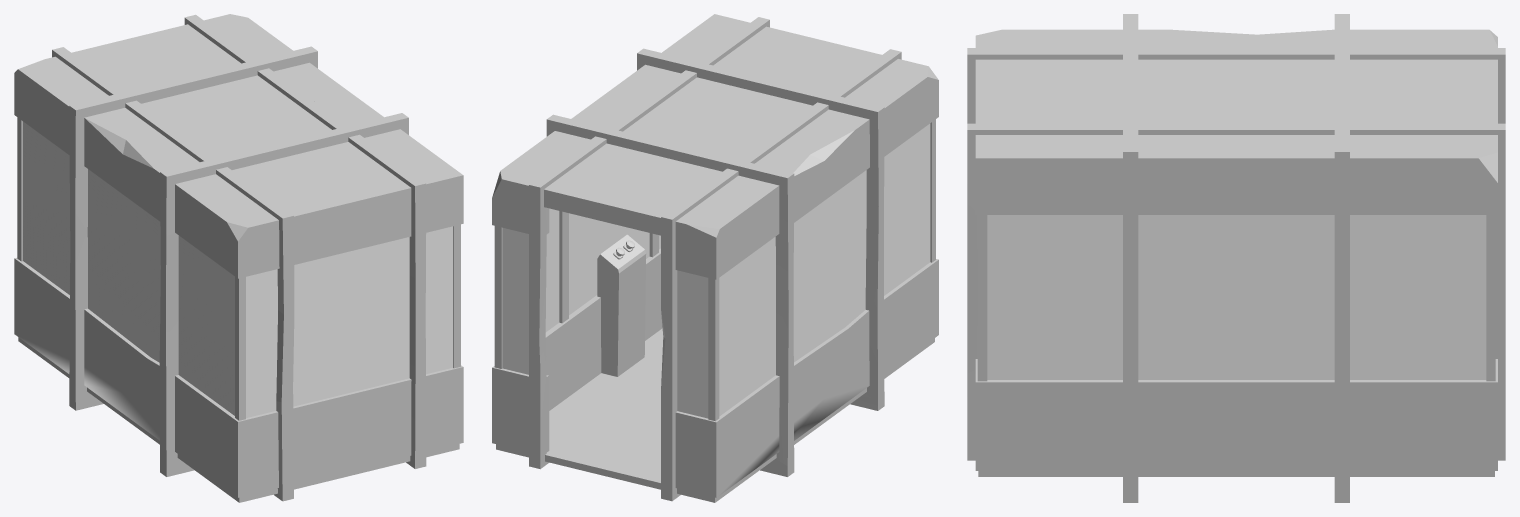
Rendered from SM_Prop_Elevator_01.glb.
The picture shows the model from 3 angles, left to right: view 1: azimuth 30°, elevation 25°; view 2: azimuth 150°, elevation 25°; view 3: azimuth 270°, elevation 25°; orthographic projection. The views are drawn at different scales.
Parts seen in each view (by area): view 1: SM_Prop_Elevator_01, SM_Prop_Elevator_01_Mesh; view 2: SM_Prop_Elevator_01, SM_Prop_Elevator_01_Mesh; view 3: SM_Prop_Elevator_01, SM_Prop_Elevator_01_Mesh.
Part boxes in pixels (left/top/right/bottom): SM_Prop_Elevator_01: left=14, top=14, right=463, bottom=502; SM_Prop_Elevator_01_Mesh: left=23, top=121, right=452, bottom=418; SM_Prop_Elevator_01: left=492, top=14, right=938, bottom=502; SM_Prop_Elevator_01_Mesh: left=502, top=123, right=930, bottom=418; SM_Prop_Elevator_01: left=967, top=14, right=1505, bottom=502; SM_Prop_Elevator_01_Mesh: left=987, top=215, right=1486, bottom=379.
Size of the model in its own units: 2.13 by 2.52 by 3.51.
2 materials, 1 textured.
